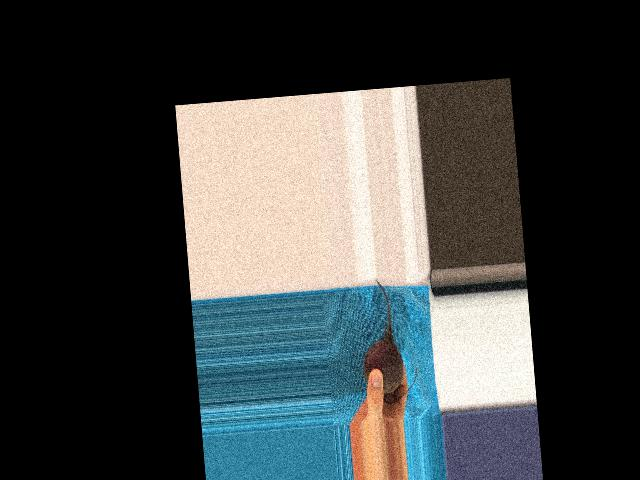beet: (355, 276, 418, 405)
